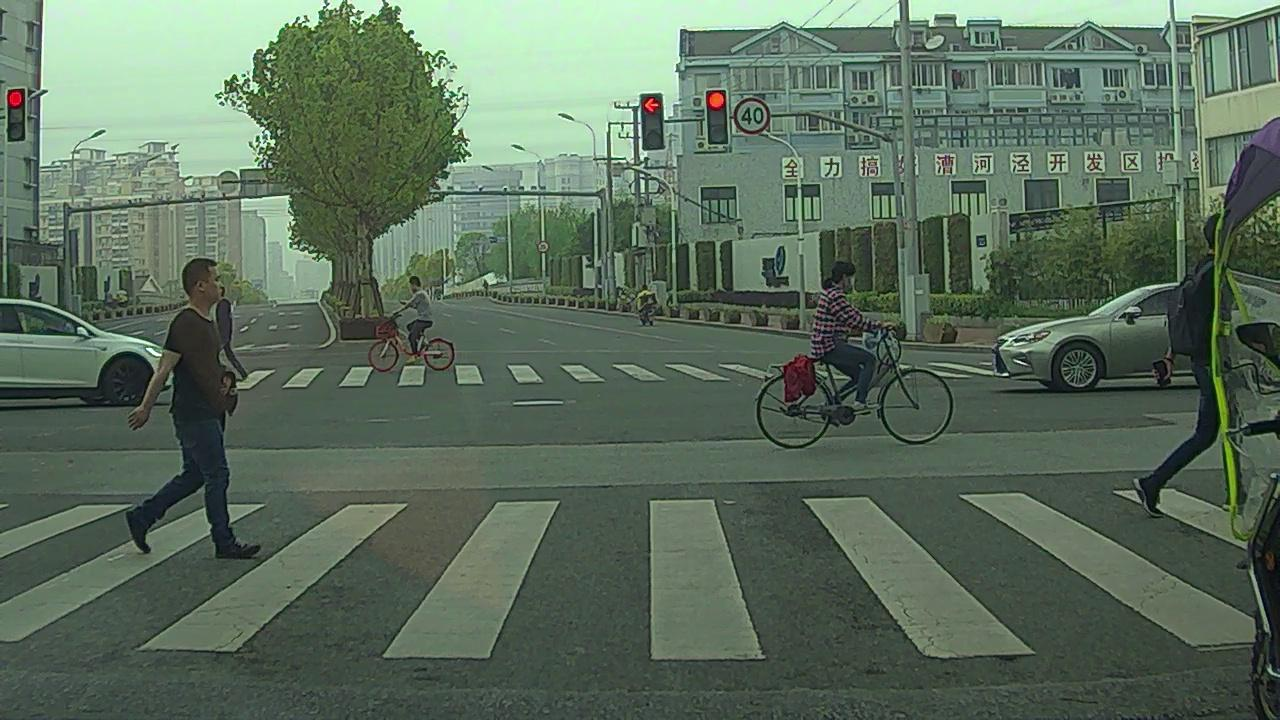traffic_light: (640, 95, 664, 149), (707, 90, 728, 145), (7, 88, 25, 142)
